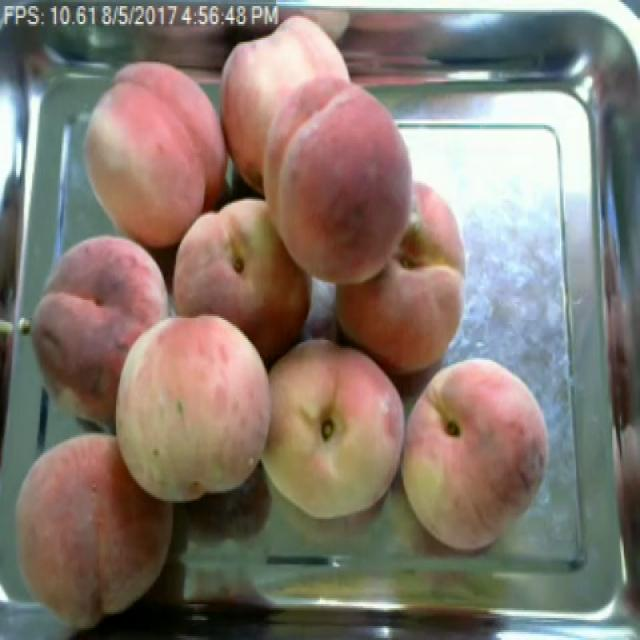Fruit: (0, 409, 193, 639), (92, 300, 288, 523), (16, 221, 185, 463), (241, 82, 427, 298), (388, 348, 567, 564), (251, 326, 417, 531), (327, 171, 477, 386), (76, 52, 229, 256), (163, 183, 324, 374)
